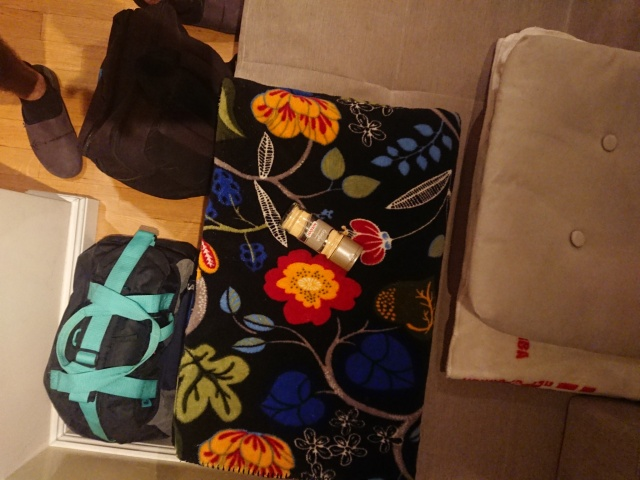Kotanyi Garlic Granules 70g: (278, 200, 366, 273)
